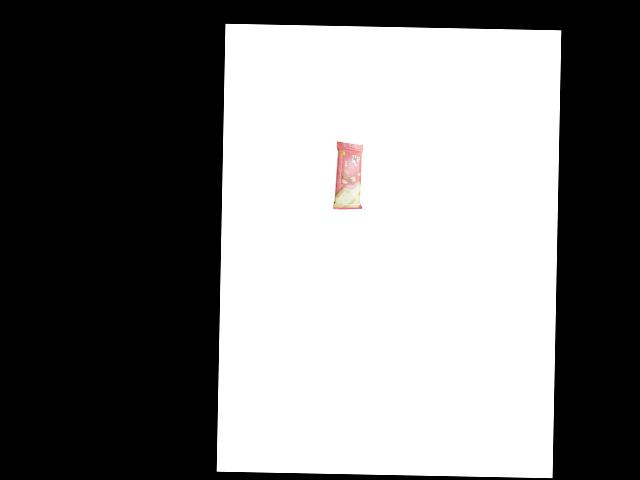chocolate: (328, 136, 365, 210)
